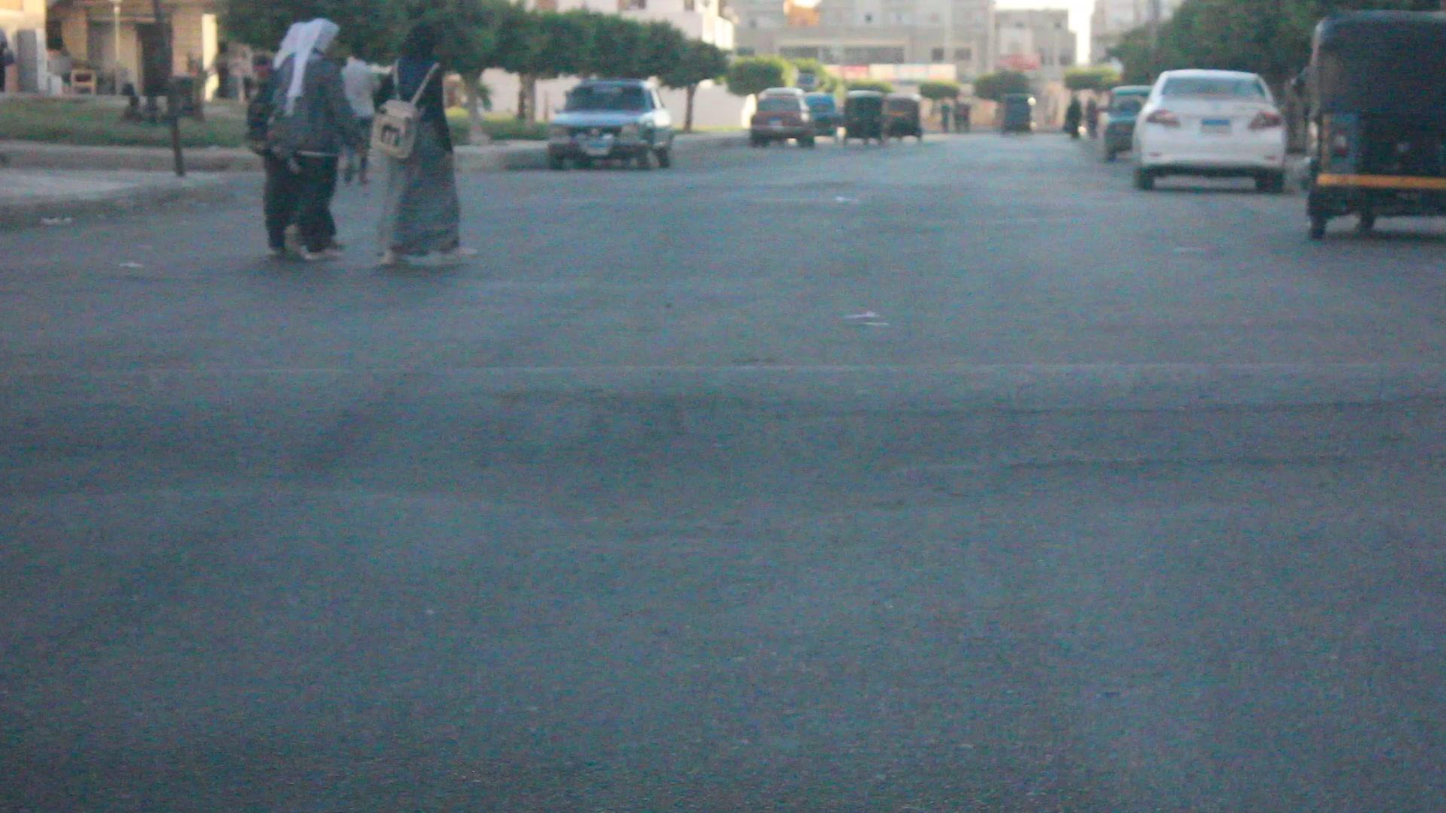Bump: (0, 339, 1446, 502)
